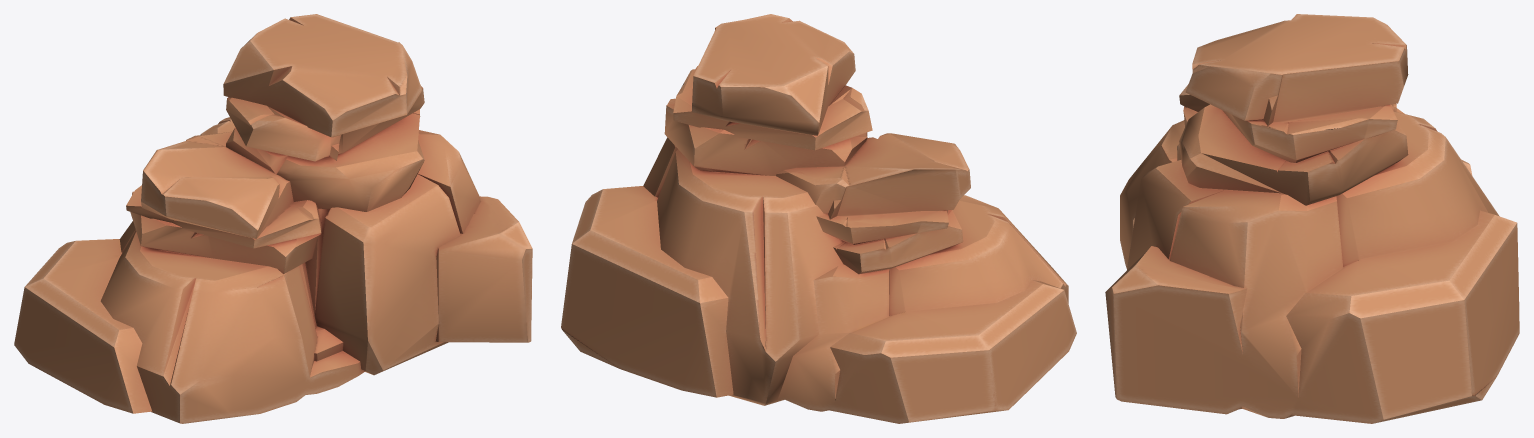
File: rock_3.fbx
The picture shows the model from 3 angles, left to right: view 1: azimuth 30°, elevation 25°; view 2: azimuth 150°, elevation 25°; view 3: azimuth 270°, elevation 25°; orthographic projection. The views are drawn at different scales.
Visible parts, largest first — view 1: Rock_3; view 2: Rock_3; view 3: Rock_3.
Boxes of the visible parts, x1,y1,x2,y2 form: Rock_3: (14, 14, 532, 423); Rock_3: (561, 14, 1076, 423); Rock_3: (1105, 14, 1519, 423).
Size of the model in its own units: 1668 by 1027 by 1238.
1 material, 1 textured.
